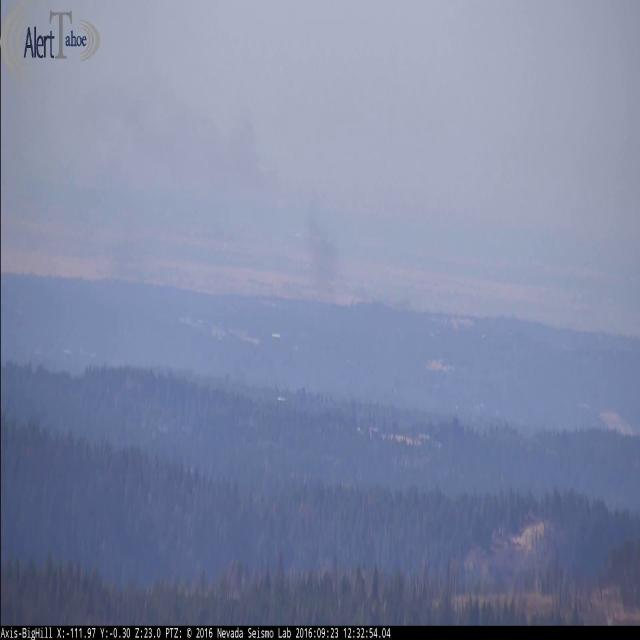smoke: (122, 103, 343, 304)
